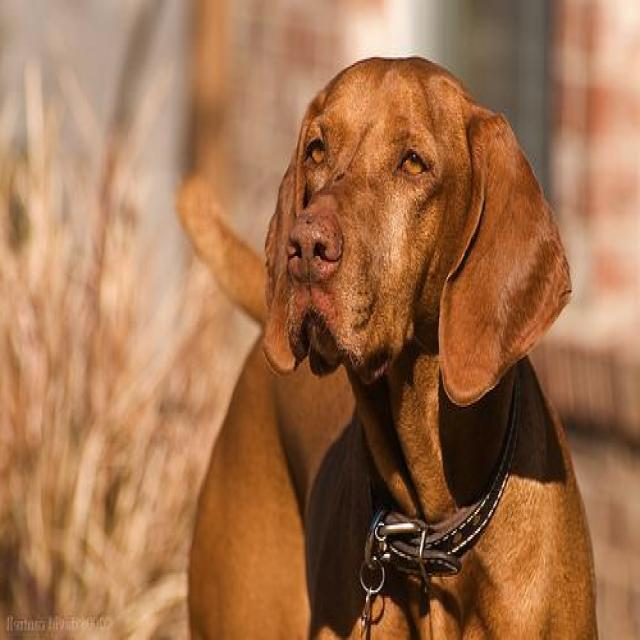vizsla: (179, 57, 595, 638)
